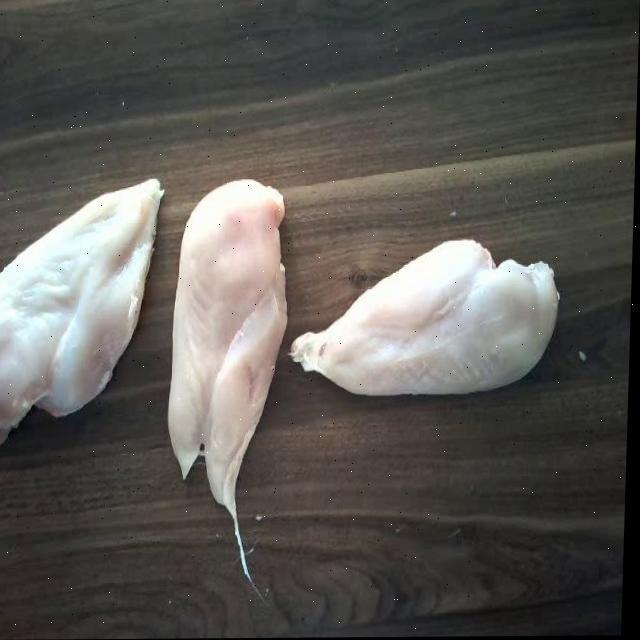breast: (290, 234, 564, 408), (0, 174, 160, 448), (173, 175, 290, 542)
